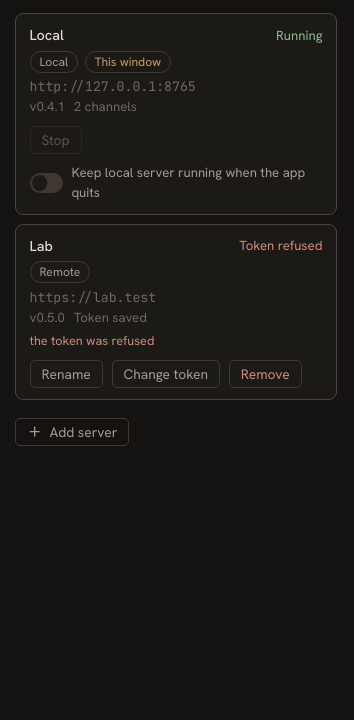
Test case: ServersSection (MS-05) › Test probes the typed URL and token and shows the refusal's text (MS-05)
Click the button "Add server": [72, 432] box top-left (15, 418), bottom-right (129, 446)
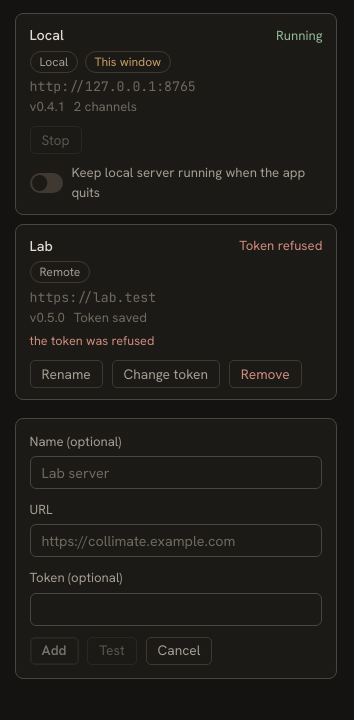
In the field labelled "URL": [176, 541] box top-left (30, 524), bottom-right (322, 557), type "https://lab2.test"
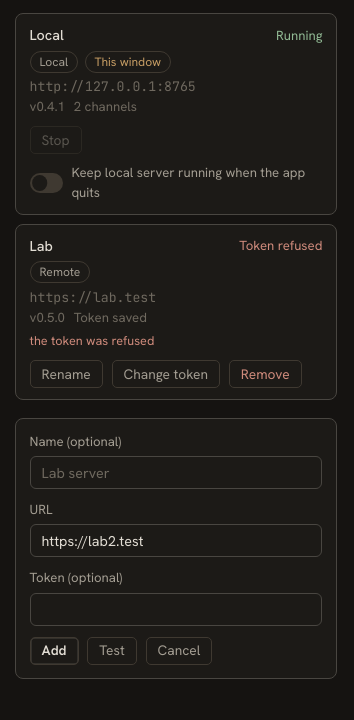
In the password field labelled "Token (optional)": [176, 609] box top-left (30, 592), bottom-right (322, 626), type "bad"
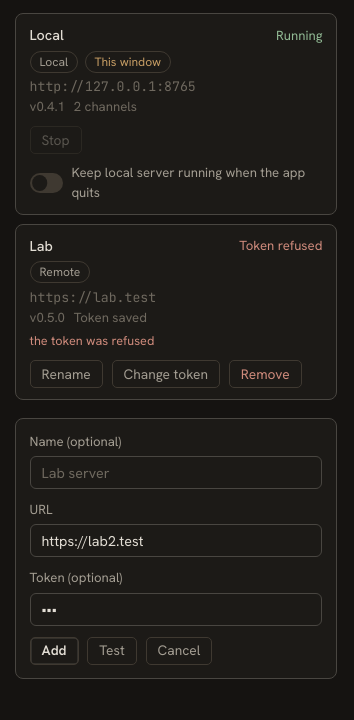
Click the button "Test": [112, 651] box top-left (87, 636), bottom-right (137, 665)
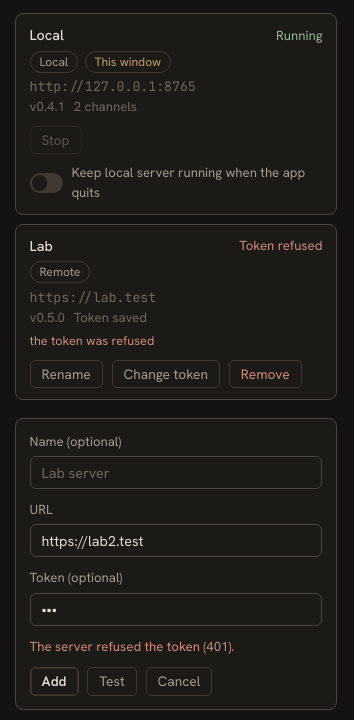
Result: the message reads "The server refused the token (401)." at top-left (30, 638), bottom-right (235, 654)
Click the button "Test": [112, 682] box top-left (87, 667), bottom-right (137, 696)
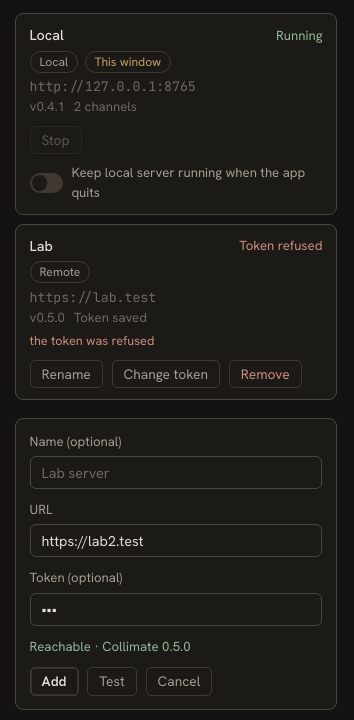
Result: the message reads "Reachable · Collimate 0.5.0" at top-left (30, 638), bottom-right (191, 654)
